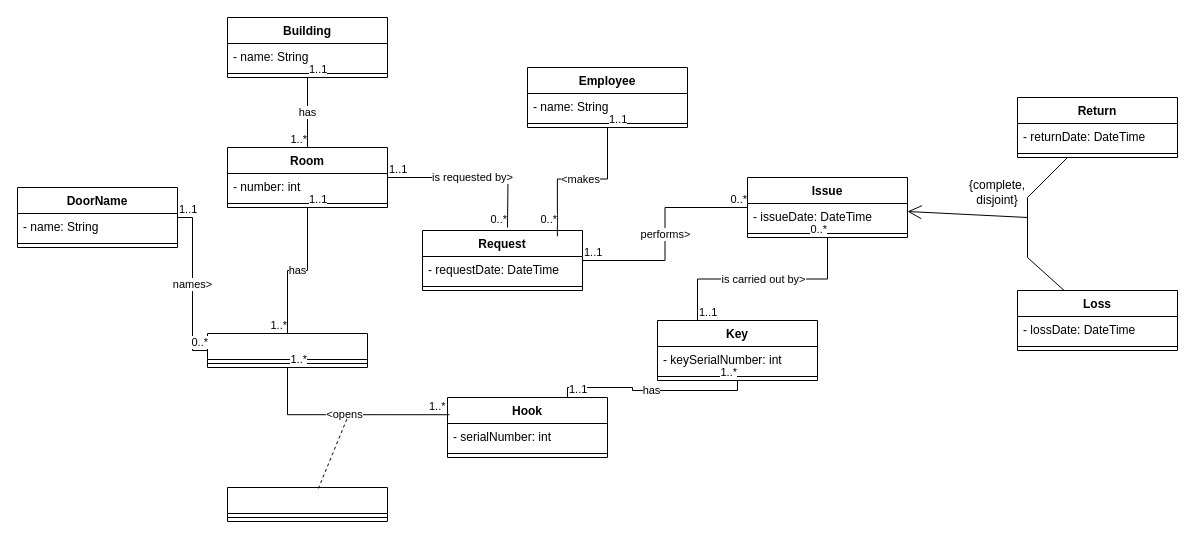
This 1195x539 diagram has some shape labels left out. The centre of each missing label's shape, as x and y in pixels:
"Door" belongs at point (287, 350).
"Permission" belongs at point (307, 504).
